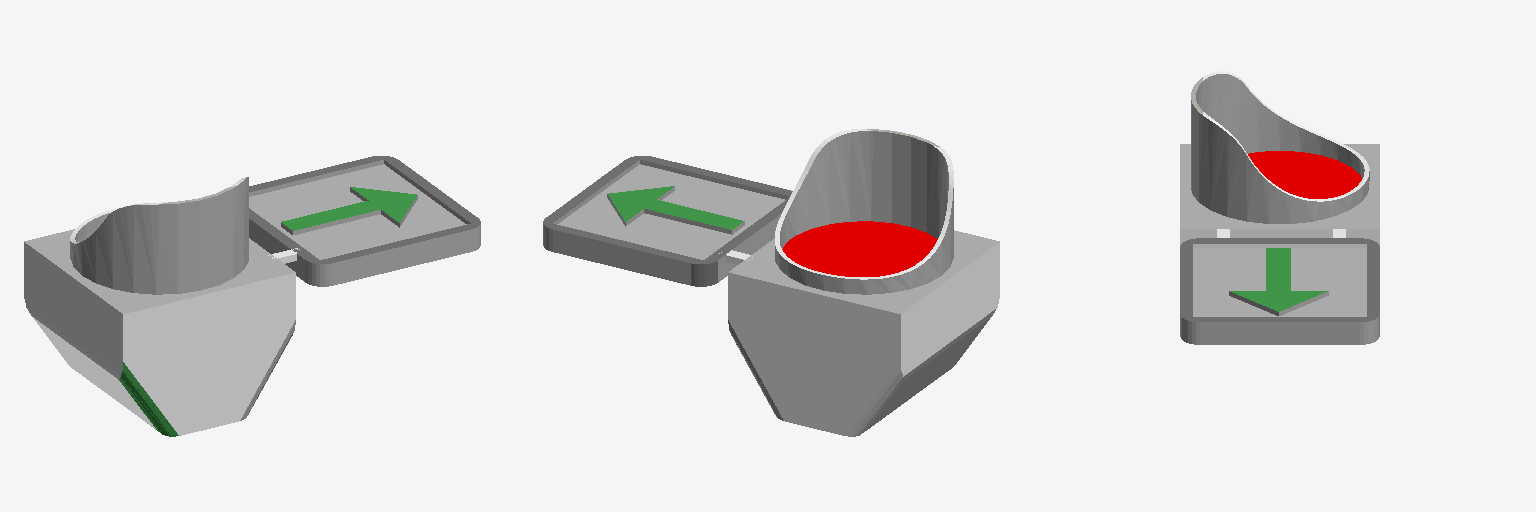
The model's file is fos_strela.obj.
3 renders of one model, left to right at view 1: azimuth 30°, elevation 25°; view 2: azimuth 150°, elevation 25°; view 3: azimuth 270°, elevation 25°, orthographic.
Parts seen in each view (by area): view 1: ________3, ________1; view 2: ________3, ________1; view 3: ________3, ________1.
Boxes of the visible parts, x1,y1,x2,y2 form: ________3: [24, 177, 295, 436]; ________1: [249, 156, 480, 286]; ________3: [728, 129, 999, 436]; ________1: [543, 156, 792, 286]; ________3: [1180, 71, 1379, 245]; ________1: [1180, 238, 1379, 344].
Size of the model in its own units: 0.0169 by 0.01 by 0.008.